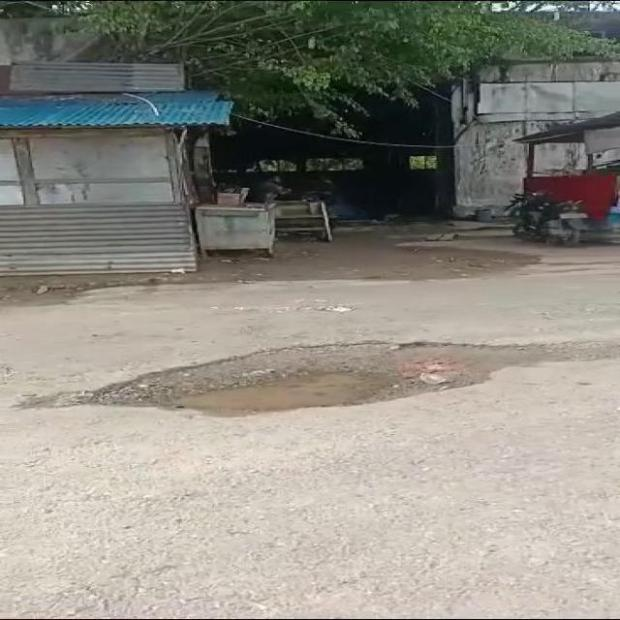lubang: (18, 343, 619, 414)
